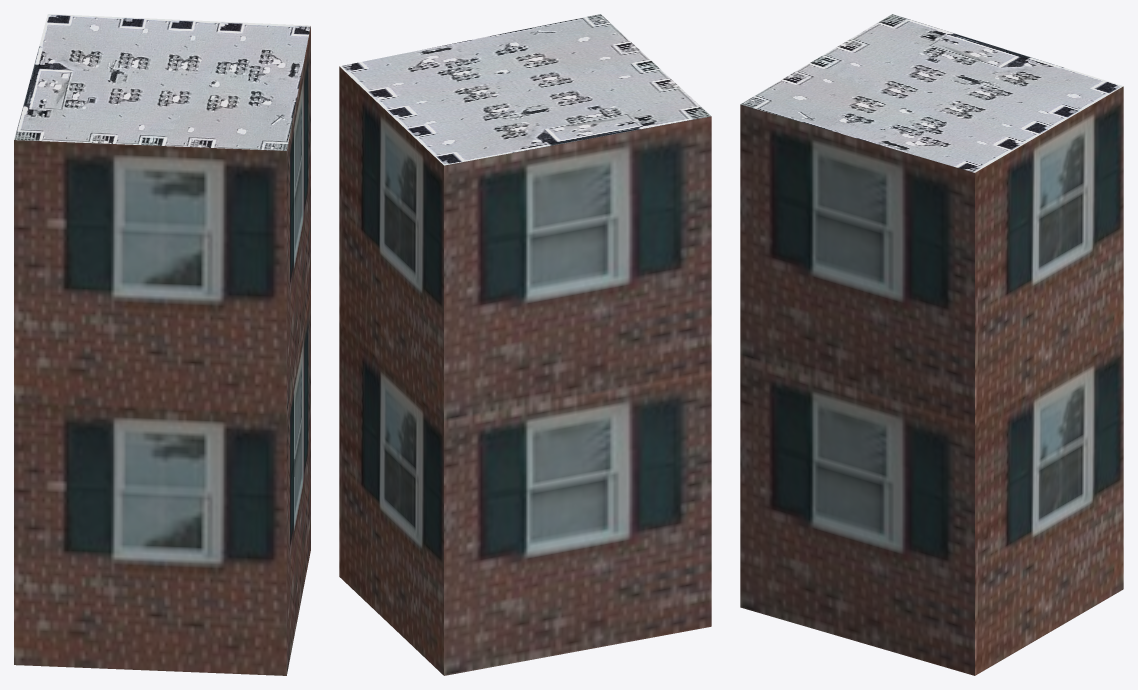
The model's file is ResTex__3839.fbx.
3 renders of one model, left to right at view 1: azimuth 30°, elevation 25°; view 2: azimuth 150°, elevation 25°; view 3: azimuth 270°, elevation 25°, orthographic. The views are drawn at different scales.
Parts seen in each view (by area): view 1: CityEngineMaterial_14_m, CityEngineMaterial_4_m; view 2: CityEngineMaterial_14_m, CityEngineMaterial_4_m; view 3: CityEngineMaterial_14_m, CityEngineMaterial_4_m.
Part boxes in pixels (x1=…): CityEngineMaterial_14_m: x1=14, y1=26, x2=310, y2=675; CityEngineMaterial_4_m: x1=14, y1=14, x2=310, y2=150; CityEngineMaterial_14_m: x1=339, y1=66, x2=711, y2=675; CityEngineMaterial_4_m: x1=340, y1=14, x2=710, y2=165; CityEngineMaterial_14_m: x1=740, y1=86, x2=1123, y2=675; CityEngineMaterial_4_m: x1=740, y1=14, x2=1123, y2=172.
Size of the model in its own units: 4.06 by 6 by 4.14.
2 materials, 2 textured.
